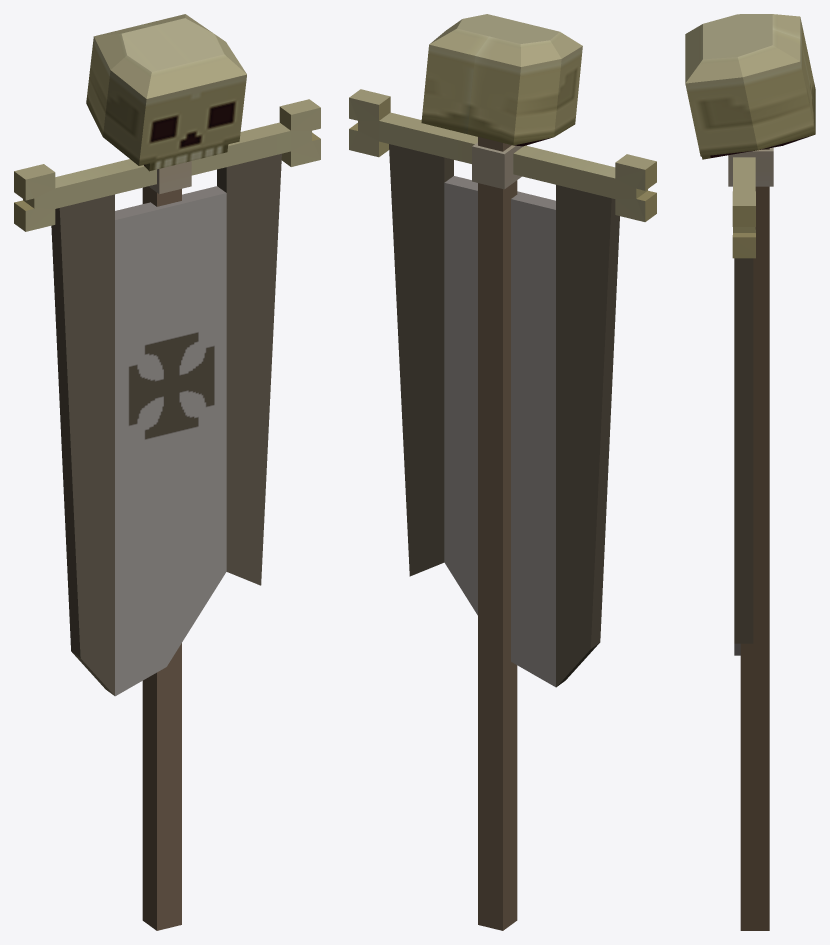
Rendered from Flag1.gltf.
The picture shows the model from 3 angles, left to right: view 1: azimuth 30°, elevation 25°; view 2: azimuth 150°, elevation 25°; view 3: azimuth 270°, elevation 25°; orthographic projection.
Parts seen in each view (by area): view 1: SF_Prop_Flag_011; view 2: SF_Prop_Flag_011; view 3: SF_Prop_Flag_011.
Part boxes in pixels (x1,y1,x2,y2): SF_Prop_Flag_011: (14, 14, 320, 930); SF_Prop_Flag_011: (349, 14, 656, 930); SF_Prop_Flag_011: (685, 14, 815, 930).
Size of the model in its own units: 0.0157 by 0.0452 by 0.00596.
Materials: 1 (1 with a texture image).
